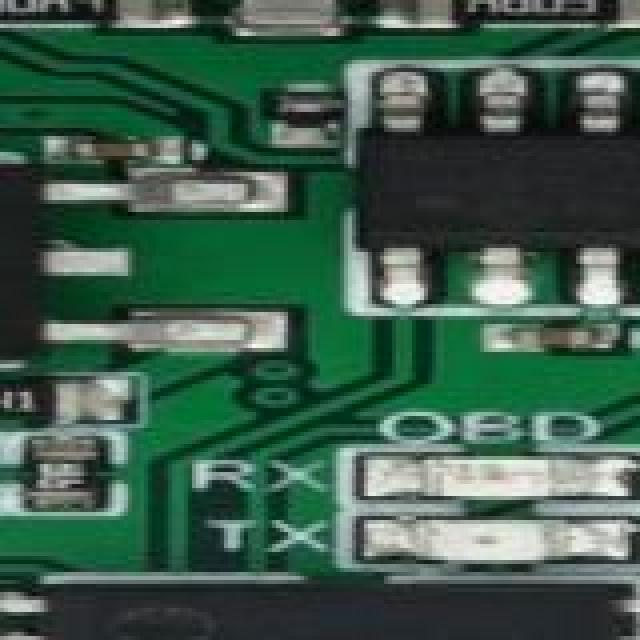IC: (364, 80, 640, 288), (0, 164, 288, 360), (0, 580, 640, 640)
LED: (400, 452, 610, 496), (400, 512, 600, 558)
capacitor: (228, 0, 344, 36), (32, 144, 190, 164), (508, 332, 618, 358)
resistor: (0, 0, 196, 32), (24, 440, 116, 506), (388, 0, 640, 20), (0, 384, 104, 420), (276, 92, 342, 148), (0, 436, 4, 504)
